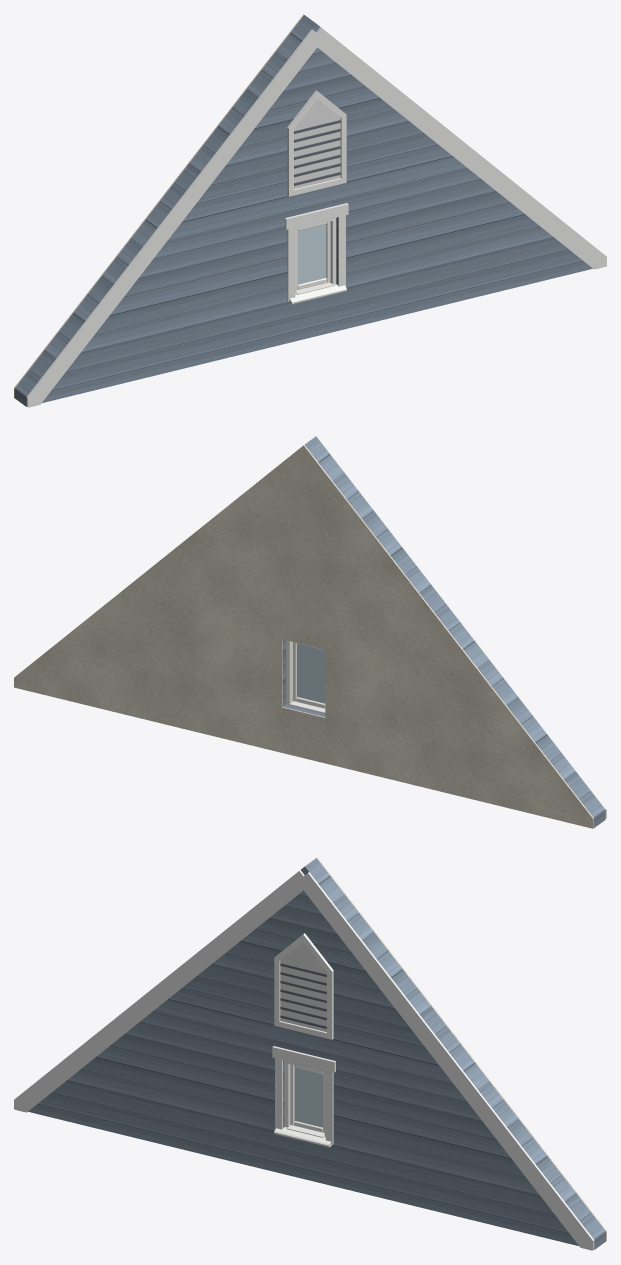
File: gable_back.glb
The picture shows the model from 3 angles, top to bottom: view 1: azimuth 30°, elevation 25°; view 2: azimuth 150°, elevation 25°; view 3: azimuth 330°, elevation 25°; orthographic projection.
Parts seen in each view (by area): view 1: gable_back_siding, gable_back_trim, gable_back_vent, gable_back_glass, gable_back_shutter_dark, gable_back_plaster, gable_back_frame, gable_back_sash; view 2: gable_back_plaster, gable_back_siding, gable_back_glass, gable_back_trim; view 3: gable_back_siding, gable_back_trim, gable_back_vent, gable_back_glass, gable_back_shutter_dark, gable_back_plaster, gable_back_frame, gable_back_sash.
Part boxes in pixels (left/top/right/bottom): gable_back_siding: left=15, top=15, right=592, bottom=406; gable_back_trim: left=26, top=27, right=606, bottom=407; gable_back_vent: left=294, top=99, right=340, bottom=189; gable_back_glass: left=298, top=224, right=326, bottom=284; gable_back_shutter_dark: left=294, top=120, right=340, bottom=185; gable_back_plaster: left=14, top=14, right=303, bottom=398; gable_back_frame: left=295, top=218, right=336, bottom=293; gable_back_sash: left=296, top=221, right=330, bottom=289; gable_back_plaster: left=14, top=445, right=593, bottom=828; gable_back_siding: left=282, top=436, right=605, bottom=827; gable_back_glass: left=297, top=643, right=325, bottom=703; gable_back_trim: left=289, top=441, right=606, bottom=818; gable_back_siding: left=28, top=858, right=605, bottom=1249; gable_back_trim: left=14, top=870, right=594, bottom=1250; gable_back_vent: left=280, top=942, right=326, bottom=1032; gable_back_glass: left=294, top=1067, right=322, bottom=1127; gable_back_shutter_dark: left=280, top=963, right=326, bottom=1028; gable_back_plaster: left=317, top=857, right=606, bottom=1241; gable_back_frame: left=284, top=1061, right=325, bottom=1136; gable_back_sash: left=290, top=1064, right=324, bottom=1132.
Bounding box in the file's own units: 8 × 4.13 × 0.38.
Materials: 8 (2 with a texture image).
